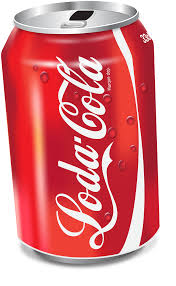can: (1, 1, 165, 262)
